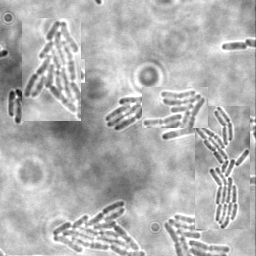Dividing: (221, 41, 248, 52)
Microcolony: (195, 106, 250, 229), (22, 18, 81, 121), (51, 200, 147, 255), (162, 212, 231, 255), (142, 87, 208, 128), (106, 96, 153, 132)
Rod: (65, 59, 85, 83)
